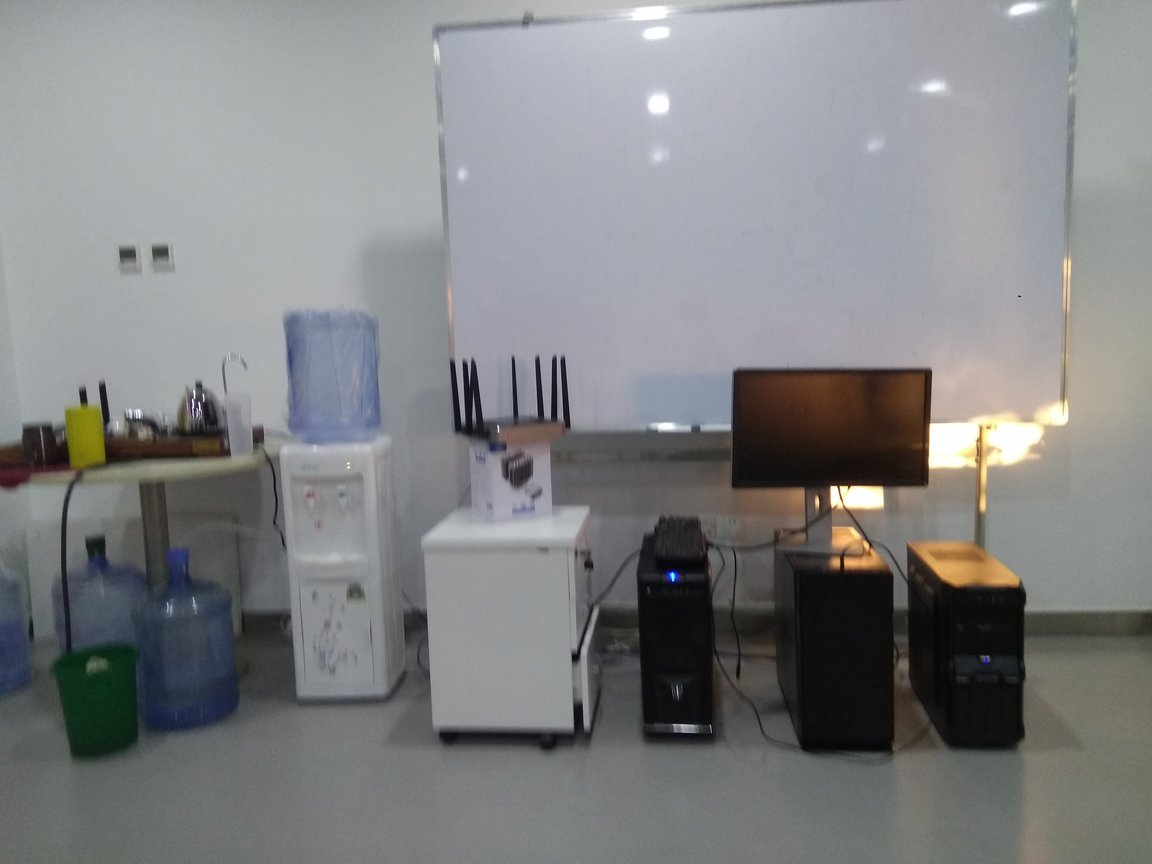computer: (774, 515, 904, 760), (903, 531, 1030, 753), (633, 531, 727, 753)
drawer chest: (414, 506, 608, 760)
scuttlebutt: (734, 353, 944, 560), (137, 546, 233, 732), (50, 532, 145, 714), (282, 305, 387, 444), (1, 573, 38, 709)
water dispenser: (277, 435, 399, 706)
